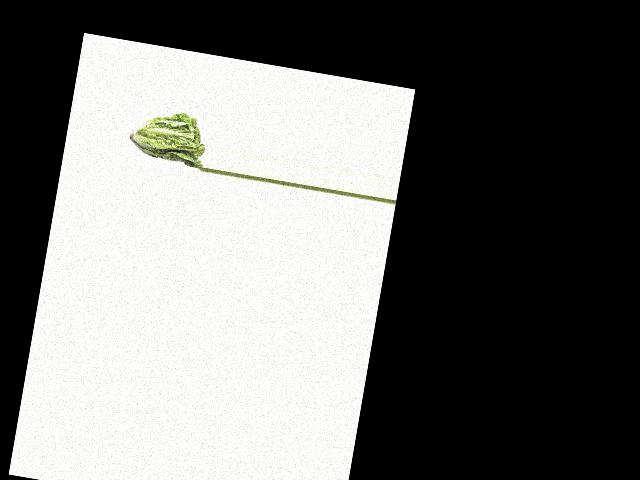lettuce: (128, 102, 210, 168)
